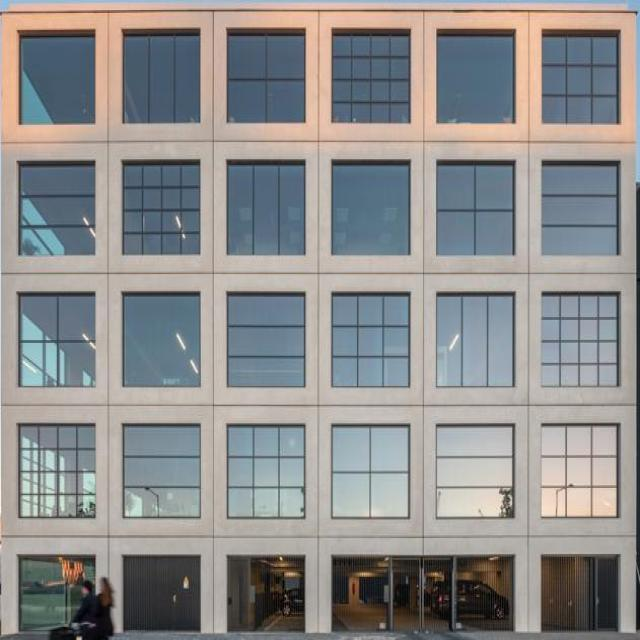door: (124, 559, 202, 636), (385, 557, 459, 635), (591, 557, 624, 635)
window: (227, 30, 307, 125), (224, 423, 304, 518), (222, 160, 302, 254), (224, 289, 304, 383), (332, 34, 412, 123), (432, 293, 512, 382), (433, 427, 512, 517), (436, 35, 515, 124), (328, 163, 407, 252), (431, 164, 510, 253), (329, 292, 408, 381), (539, 427, 617, 517), (329, 427, 408, 515), (124, 427, 199, 519), (542, 35, 619, 124), (538, 164, 615, 253), (539, 293, 616, 382), (126, 35, 201, 126), (122, 164, 197, 255), (123, 293, 198, 384), (19, 36, 95, 123), (20, 165, 96, 252), (21, 294, 97, 381), (21, 428, 97, 515), (18, 555, 95, 631)
